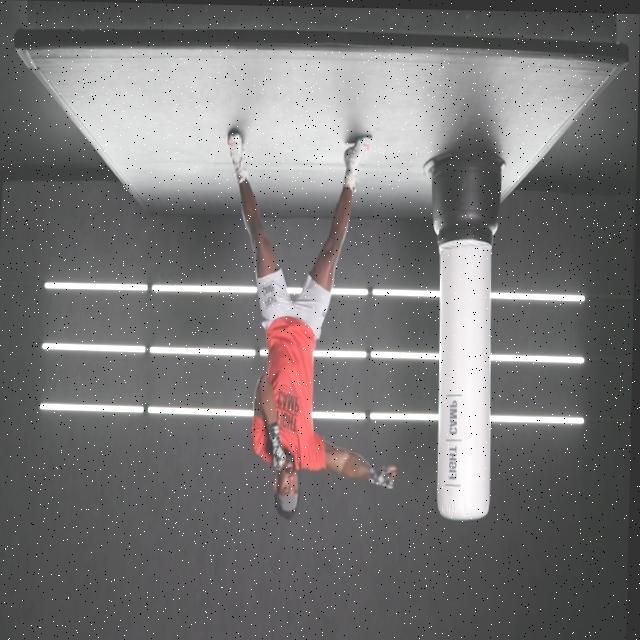Jab: (220, 114, 408, 491)
